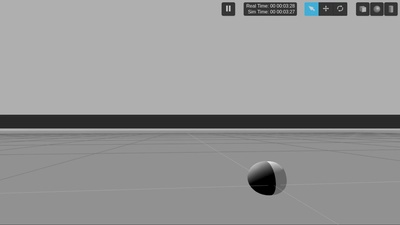mira_robot: (247, 160, 287, 195)
